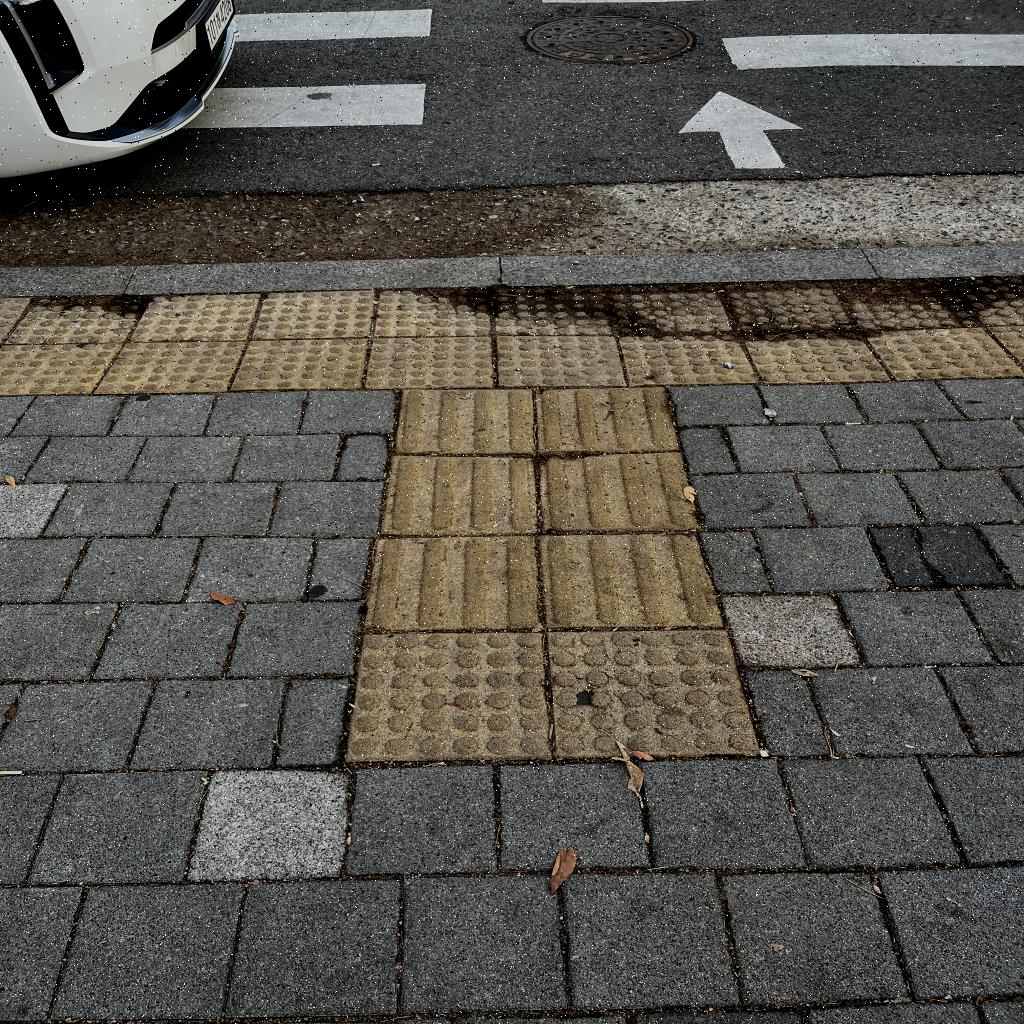Stop block normal: (549, 628, 757, 758), (347, 631, 548, 761), (867, 327, 1023, 380), (743, 329, 888, 385), (620, 331, 757, 387), (95, 342, 245, 393), (837, 279, 980, 329), (231, 339, 367, 389), (497, 335, 624, 386), (365, 337, 494, 387), (609, 284, 734, 335), (724, 282, 854, 331), (7, 297, 147, 342), (129, 294, 261, 341), (252, 291, 376, 338), (375, 289, 491, 336), (495, 288, 612, 334)
Straight block normal: (543, 534, 723, 627), (366, 537, 540, 630), (542, 453, 700, 531), (382, 455, 537, 534), (538, 386, 676, 452), (397, 390, 534, 451)
